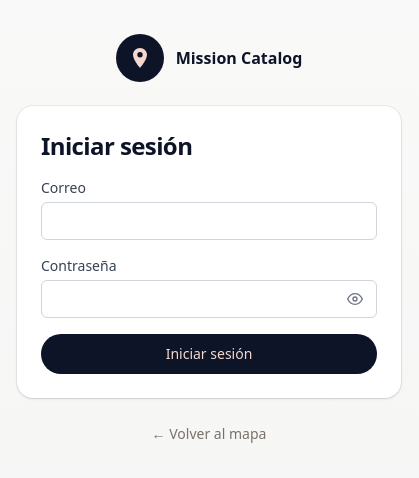
LoginPage › shows the error and re-enables the button
In the field labelled "Correo": [209, 221] box x1=41 y1=202 x2=377 y2=240, type "a@b.com"
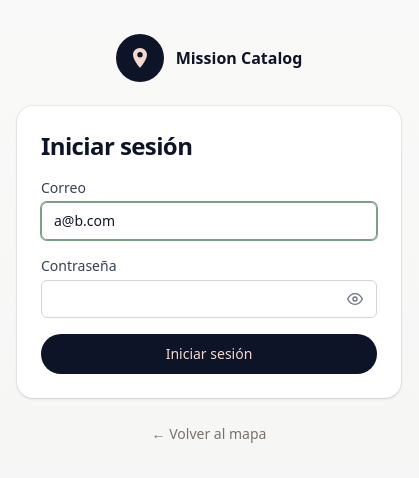
In the password field labelled "Contraseña": [209, 299] box x1=41 y1=280 x2=377 y2=318, type "secret"
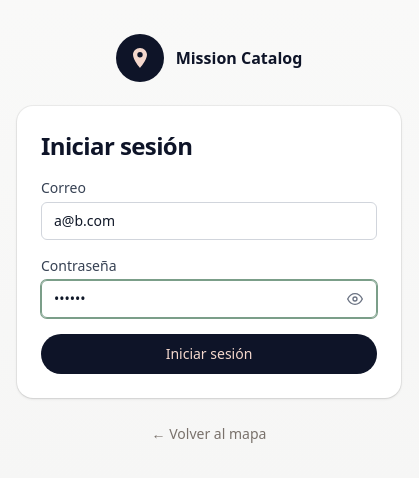
Click the button "Iniciar sesión": [209, 354] box x1=41 y1=334 x2=377 y2=374
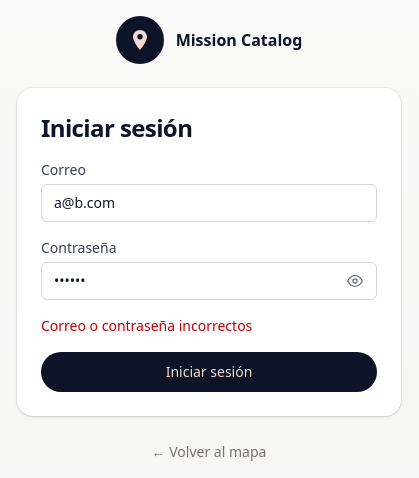
Expected: the button "Iniciar sesión" is enabled, x1=41 y1=352 x2=377 y2=392
Expected: the message reads "Correo o contraseña incorrectos", x1=41 y1=316 x2=252 y2=335
